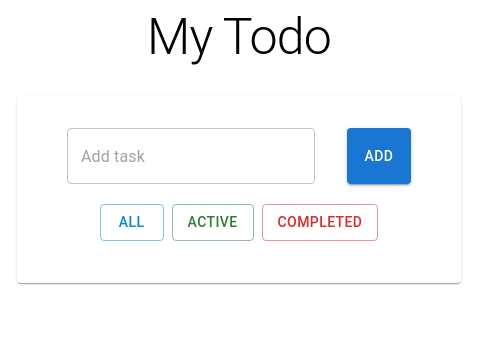
adds a new todo when Add button is clicked
This screenshot has width=479, height=345.
In the field with placeholder "Add task": (191, 156) left=67, top=128, right=315, bottom=184, type "New task"
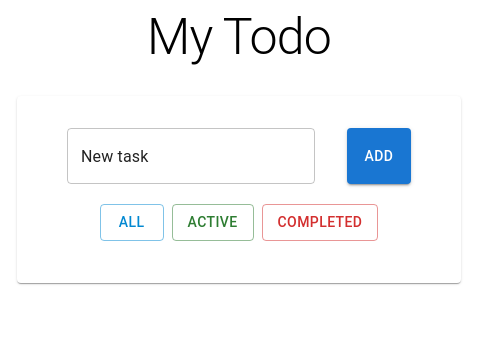
Click the button "Add": (379, 156) left=347, top=128, right=411, bottom=184
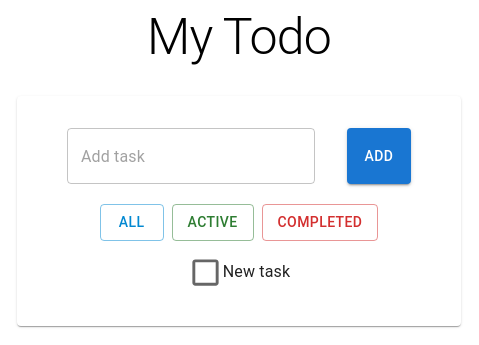
Result: the text "New task" is shown at left=223, top=260, right=290, bottom=284
